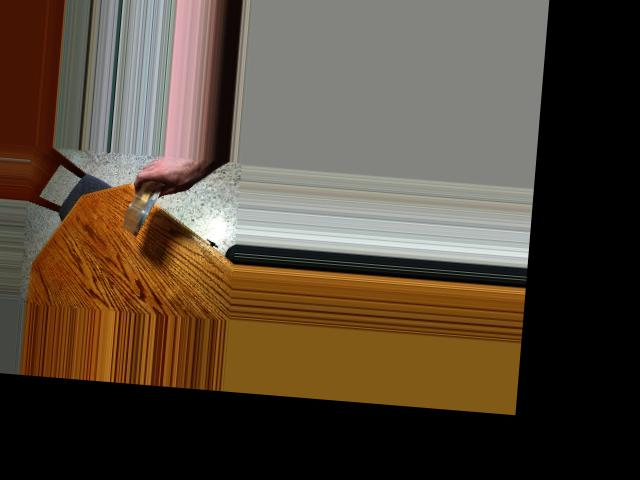cheese: (121, 171, 162, 240)
